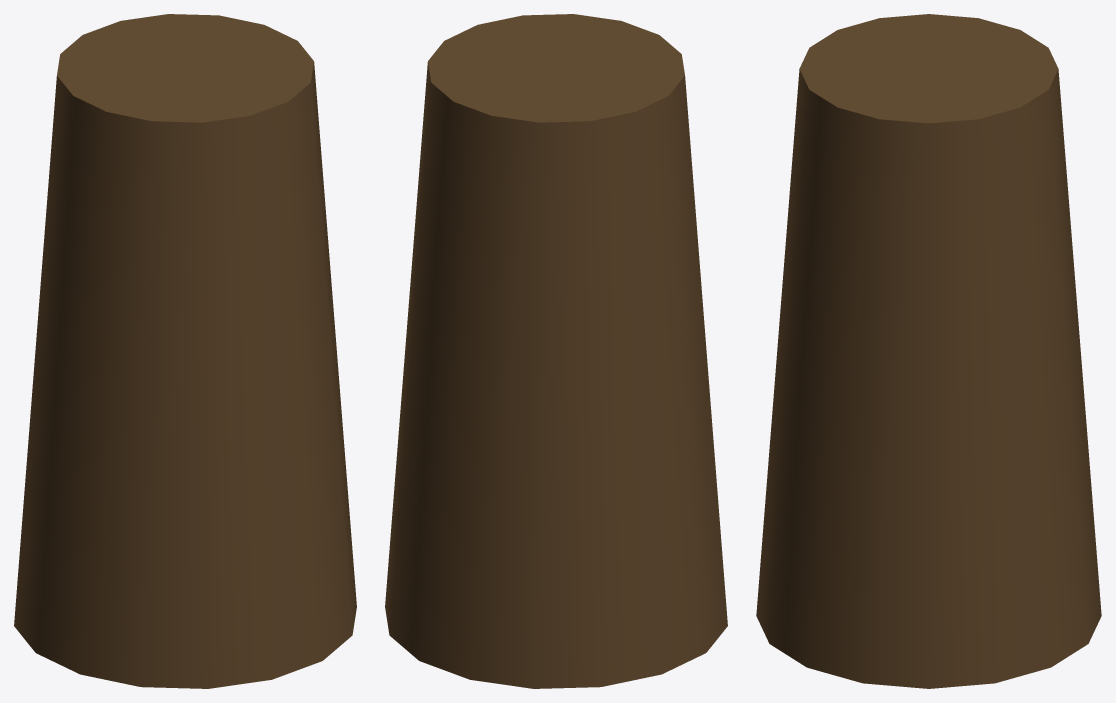
The model's file is trunk-mid.glb.
3 views of the same model, side by side, from view 1: azimuth 30°, elevation 25°; view 2: azimuth 150°, elevation 25°; view 3: azimuth 270°, elevation 25° (orthographic).
Visible parts, largest first — view 1: Trunk Mid; view 2: Trunk Mid; view 3: Trunk Mid.
Part boxes in pixels (x1=…): Trunk Mid: x1=14, y1=14, x2=356, y2=688; Trunk Mid: x1=385, y1=14, x2=727, y2=688; Trunk Mid: x1=756, y1=14, x2=1101, y2=688.
Bounding box in the file's own units: 22.81 × 39.89 × 22.81.
